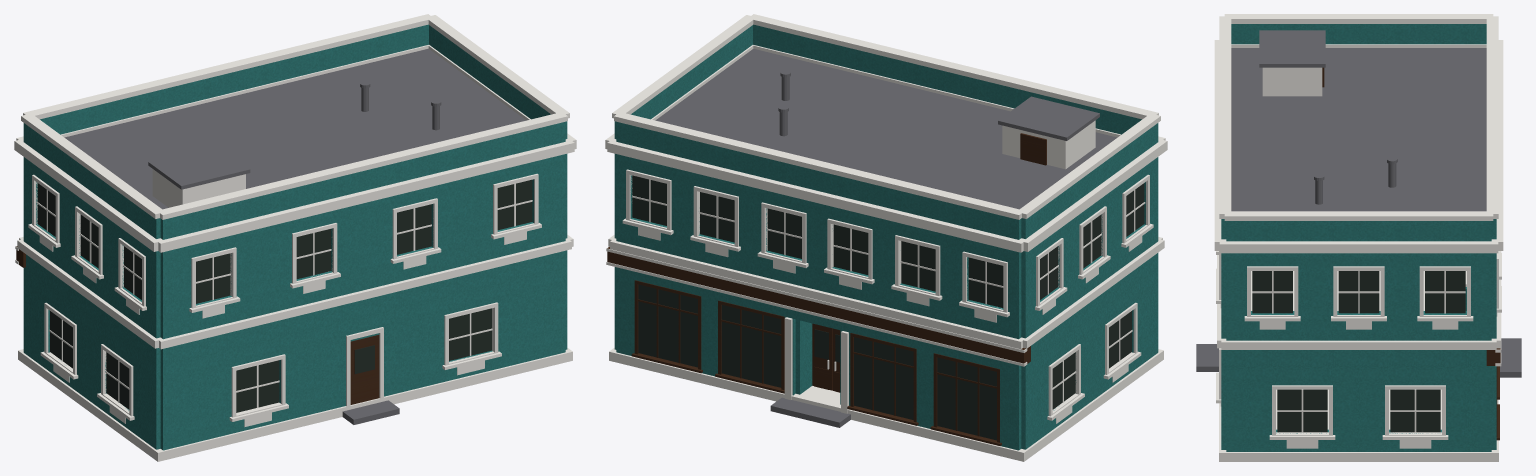
File: gedung-g10-blender-v1.glb
3 renders of one model, left to right at view 1: azimuth 30°, elevation 25°; view 2: azimuth 150°, elevation 25°; view 3: azimuth 270°, elevation 25°, orthographic.
Parts seen in each view (by area): view 1: Cube.001, Cube, Cube.065, Cube.029, Cube.024; view 2: Cube.001, Cube, Cube.065, Cube.029, Cube.024; view 3: Cube.001, Cube.065, Cube, Cube.029, Cube.024.
Part boxes in pixels (box(x1,y1,x2,y2)): Cube.001: box(23, 24, 567, 450); Cube: box(14, 14, 576, 461); Cube.065: box(64, 48, 526, 424); Cube.029: box(37, 179, 532, 412); Cube.024: box(16, 246, 379, 404); Cube.001: box(614, 24, 1158, 450); Cube: box(605, 14, 1167, 461); Cube.065: box(655, 48, 1117, 427); Cube.029: box(632, 175, 1144, 440); Cube.024: box(607, 133, 1046, 445); Cube.001: box(1221, 24, 1496, 451); Cube.065: box(1196, 30, 1521, 377); Cube: box(1214, 14, 1503, 461); Cube.029: box(1252, 271, 1465, 432); Cube.024: box(1322, 67, 1500, 440).
Bounding box in the file's own units: 14.7 × 8.32 × 9.8.
5 materials, 2 textured.
